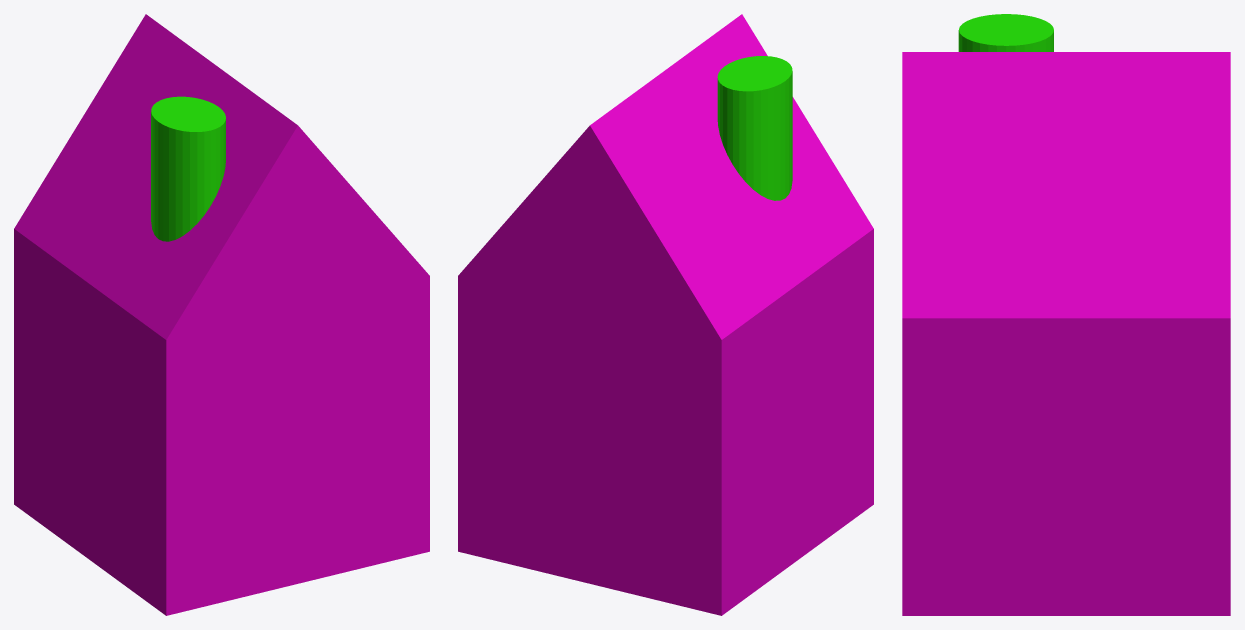
Rendered from Domecek2.glb.
3 renders of one model, left to right at view 1: azimuth 30°, elevation 25°; view 2: azimuth 150°, elevation 25°; view 3: azimuth 270°, elevation 25°, orthographic. The views are drawn at different scales.
Visible parts, largest first — view 1: Cube, Cylinder; view 2: Cube, Cylinder; view 3: Cube, Cylinder.
Part boxes in pixels (left/top/right/bottom): Cube: left=14, top=14, right=429, bottom=615; Cylinder: left=151, top=96, right=225, bottom=241; Cube: left=458, top=14, right=873, bottom=615; Cylinder: left=717, top=56, right=792, bottom=200; Cube: left=902, top=52, right=1230, bottom=615; Cylinder: left=958, top=14, right=1053, bottom=51.
Bounding box in the file's own units: 2 × 3.32 × 2.
